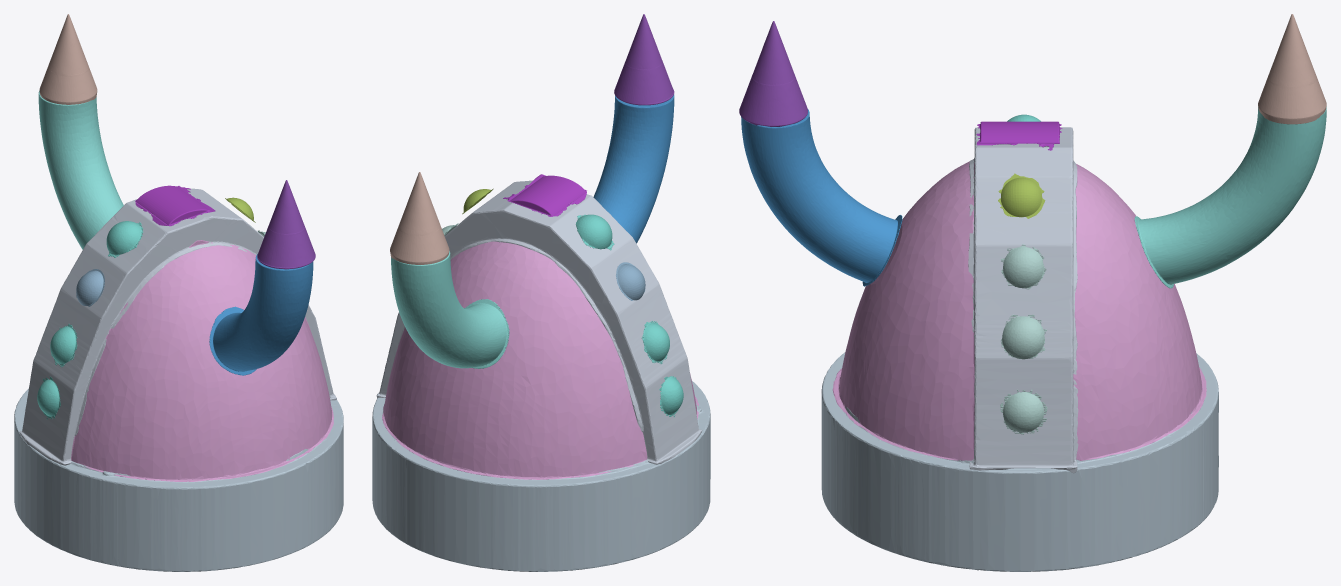
The picture shows the model from 3 angles, left to right: view 1: azimuth 30°, elevation 25°; view 2: azimuth 150°, elevation 25°; view 3: azimuth 270°, elevation 25°; orthographic projection. The views are drawn at different scales.
Parts seen in each view (by area): view 1: world; view 2: world; view 3: world.
Boxes of the visible parts, x1=… form: world: x1=14, y1=14, x2=343, y2=571; world: x1=372, y1=14, x2=710, y2=571; world: x1=739, y1=14, x2=1326, y2=571.
Size of the model in its own units: 1.26 by 1.71 by 1.9.
